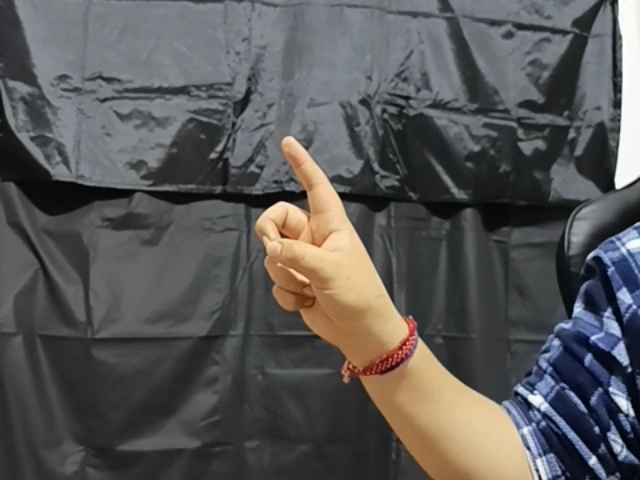D: (252, 133, 399, 343)
